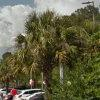Car: (8, 79, 47, 100)
